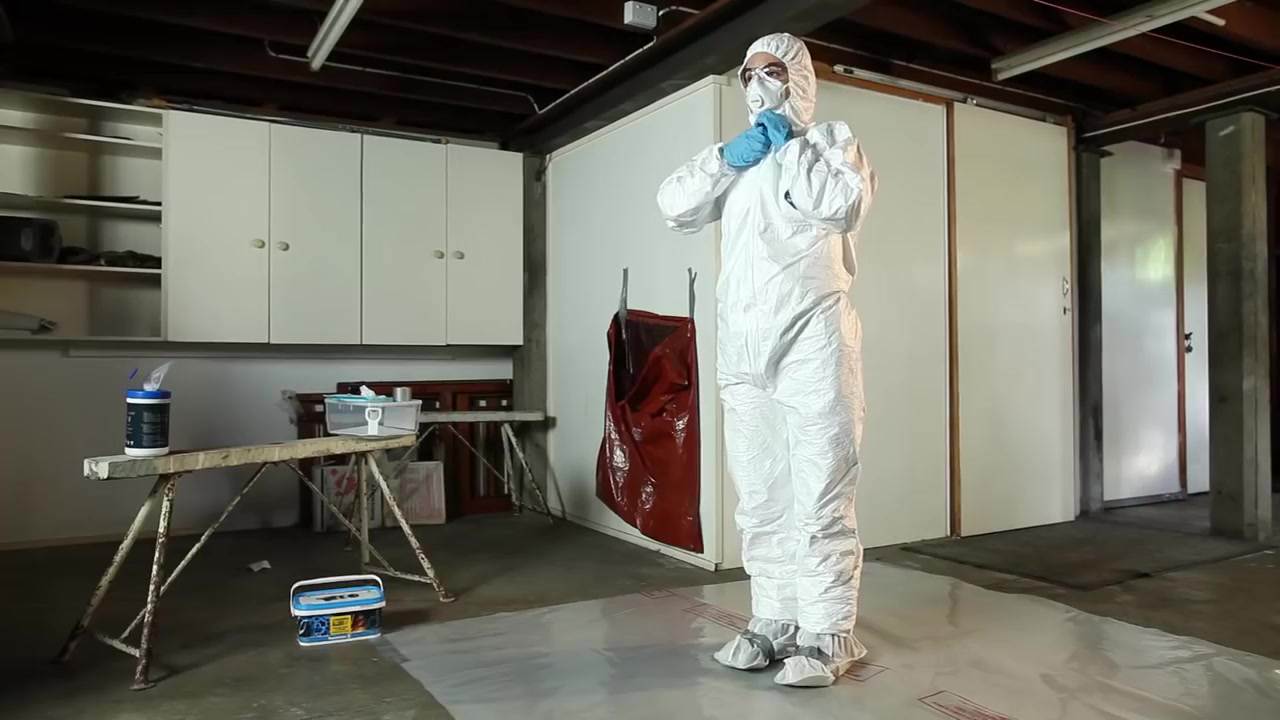Coverall: (649, 33, 903, 686)
Gloves: (719, 121, 805, 166)
with_mask: (739, 73, 789, 111)
